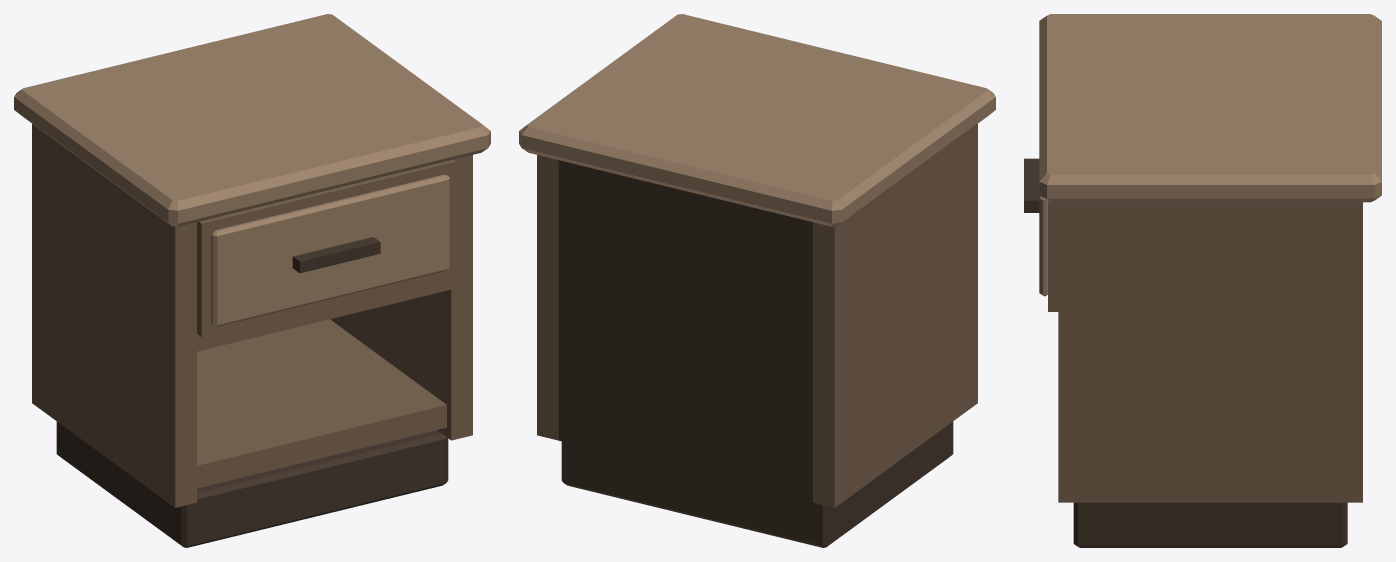
File: Motel_Nightstand.fbx
3 renders of one model, left to right at view 1: azimuth 30°, elevation 25°; view 2: azimuth 150°, elevation 25°; view 3: azimuth 270°, elevation 25°, orthographic. The views are drawn at different scales.
Parts seen in each view (by area): view 1: Motel_Nightstand; view 2: Motel_Nightstand; view 3: Motel_Nightstand.
Boxes of the visible parts, x1=… form: Motel_Nightstand: x1=14, y1=14, x2=490, y2=547; Motel_Nightstand: x1=519, y1=14, x2=995, y2=547; Motel_Nightstand: x1=1024, y1=14, x2=1381, y2=547.
Size of the model in its own units: 0.52 by 0.56 by 0.47.
